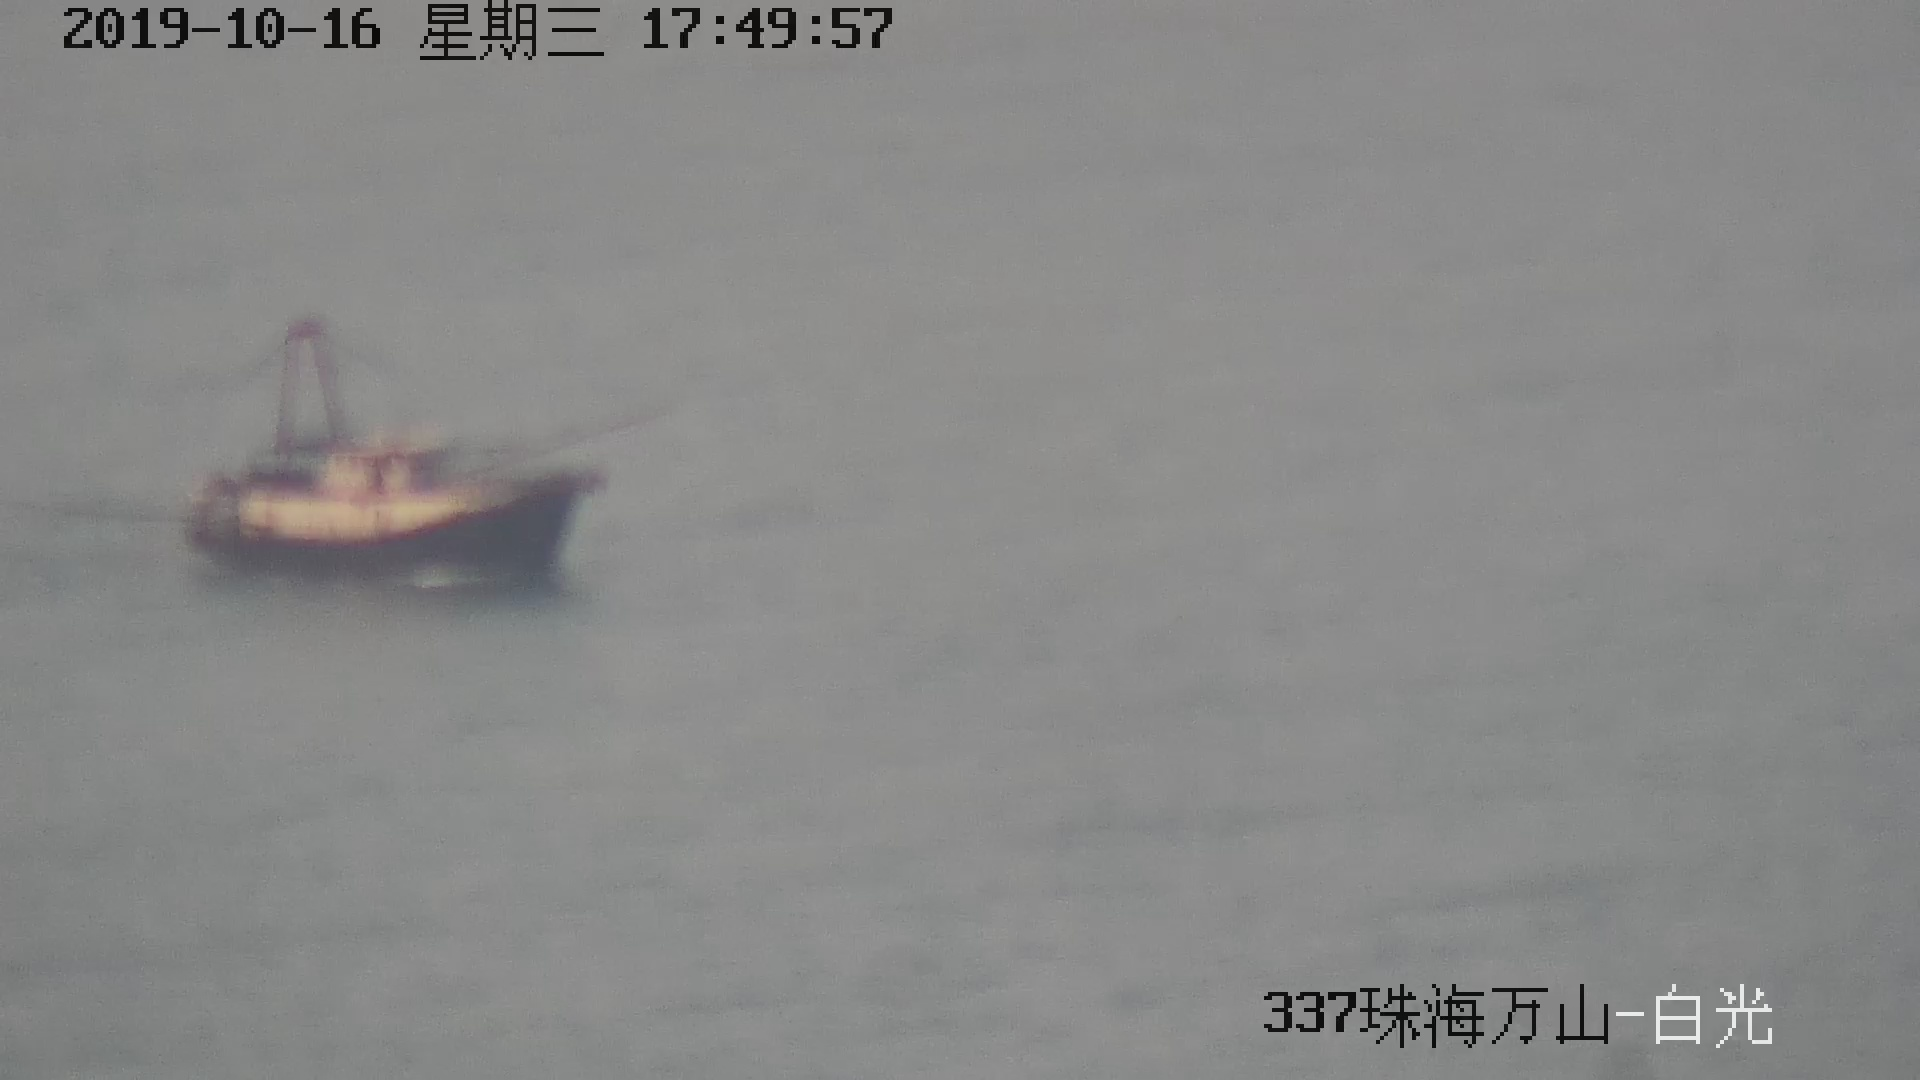ship: (185, 327, 621, 585)
